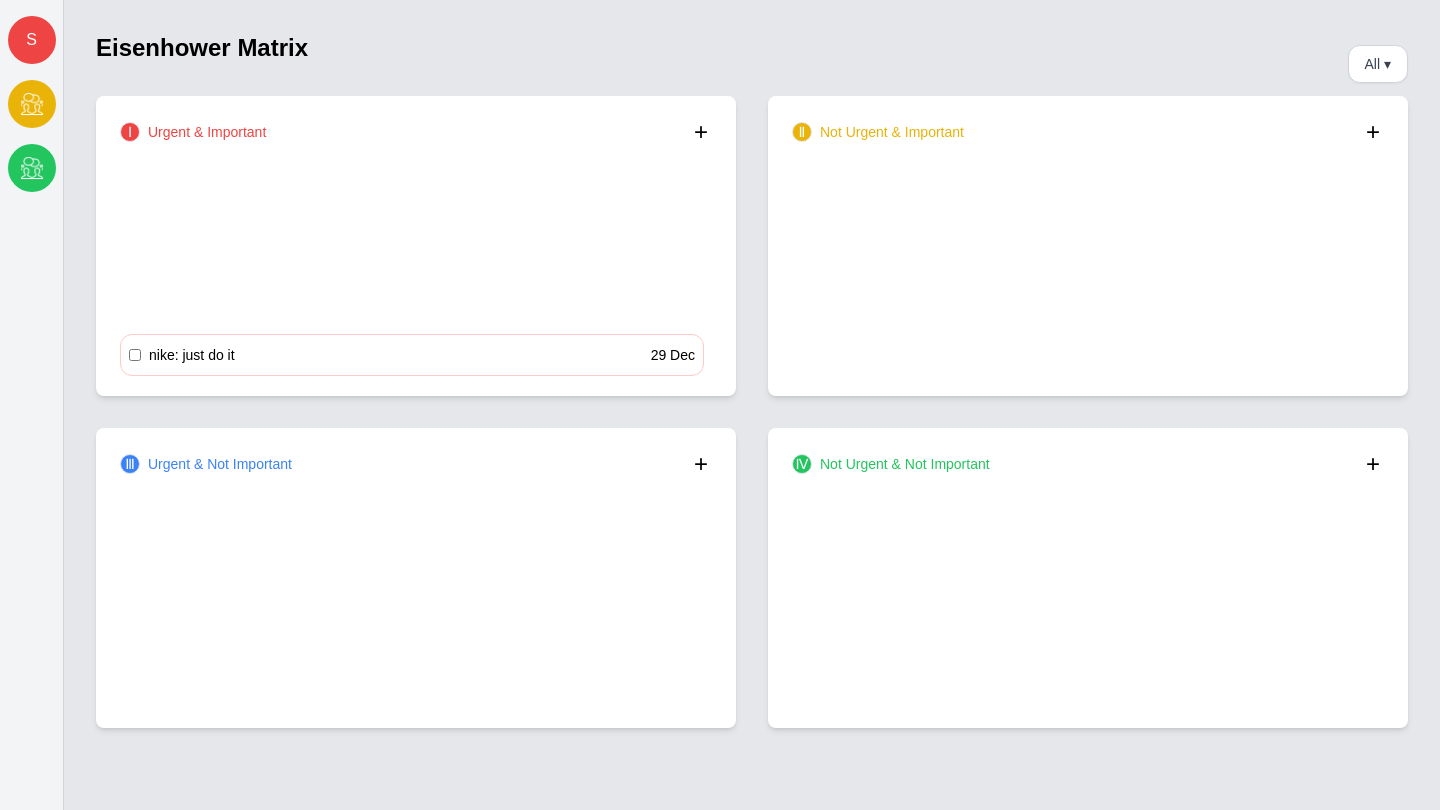
Test: NewHome Component › renders the home page and  opens modal  of task in Urgent & Important
The image size is (1440, 810).
Expected: the text "Eisenhower Matrix" is shown, [96,32,308,64]
Expected: the text "nike: just do it" is shown, [149,345,235,365]
Click the edit button
Click the button with test id "button-12": (209, 355) [121,335,703,375]
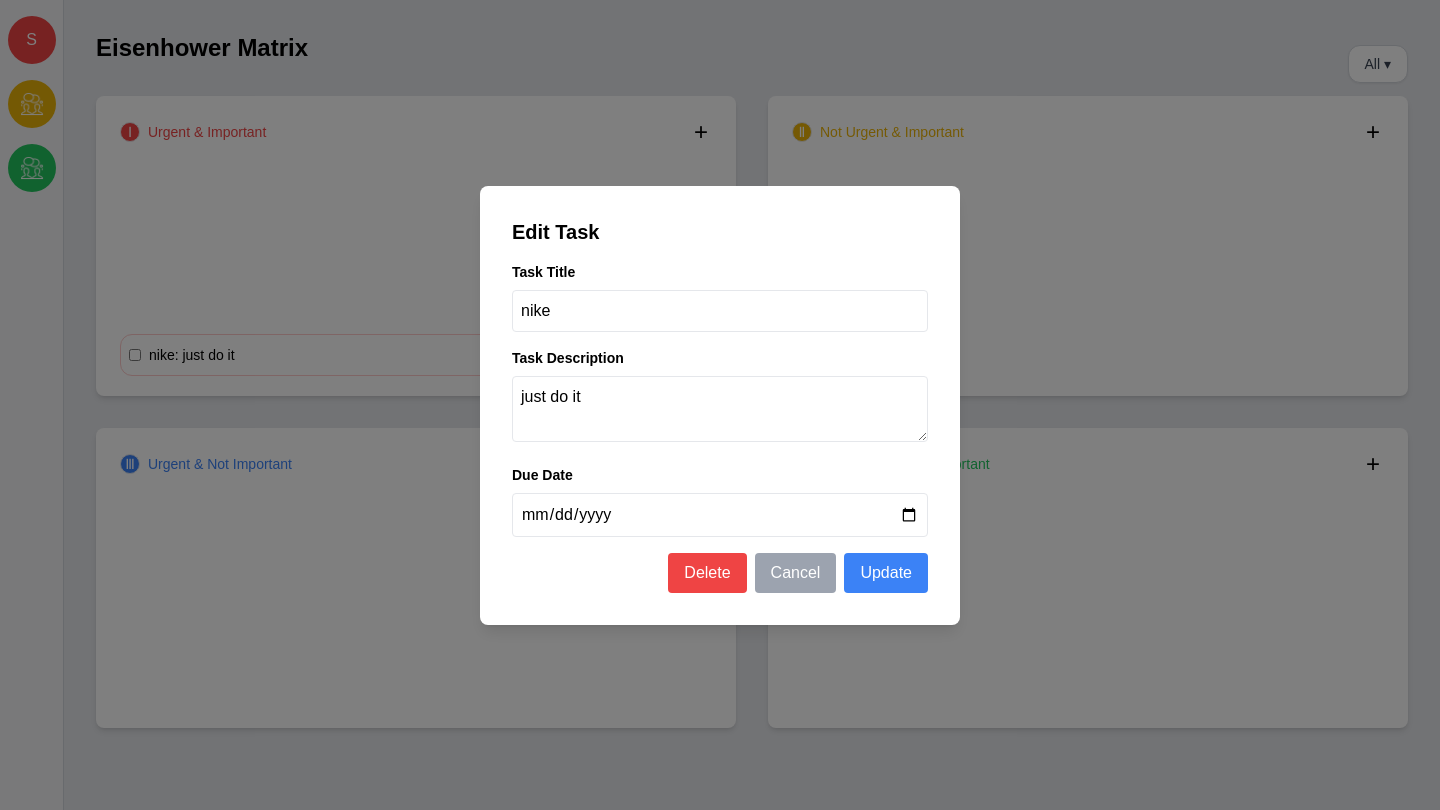
Expected: the heading "Edit Task" is shown, [512,220,599,242]
Click the delete button
Click the button with test id "delete-button": (707, 572) [668,552,747,592]
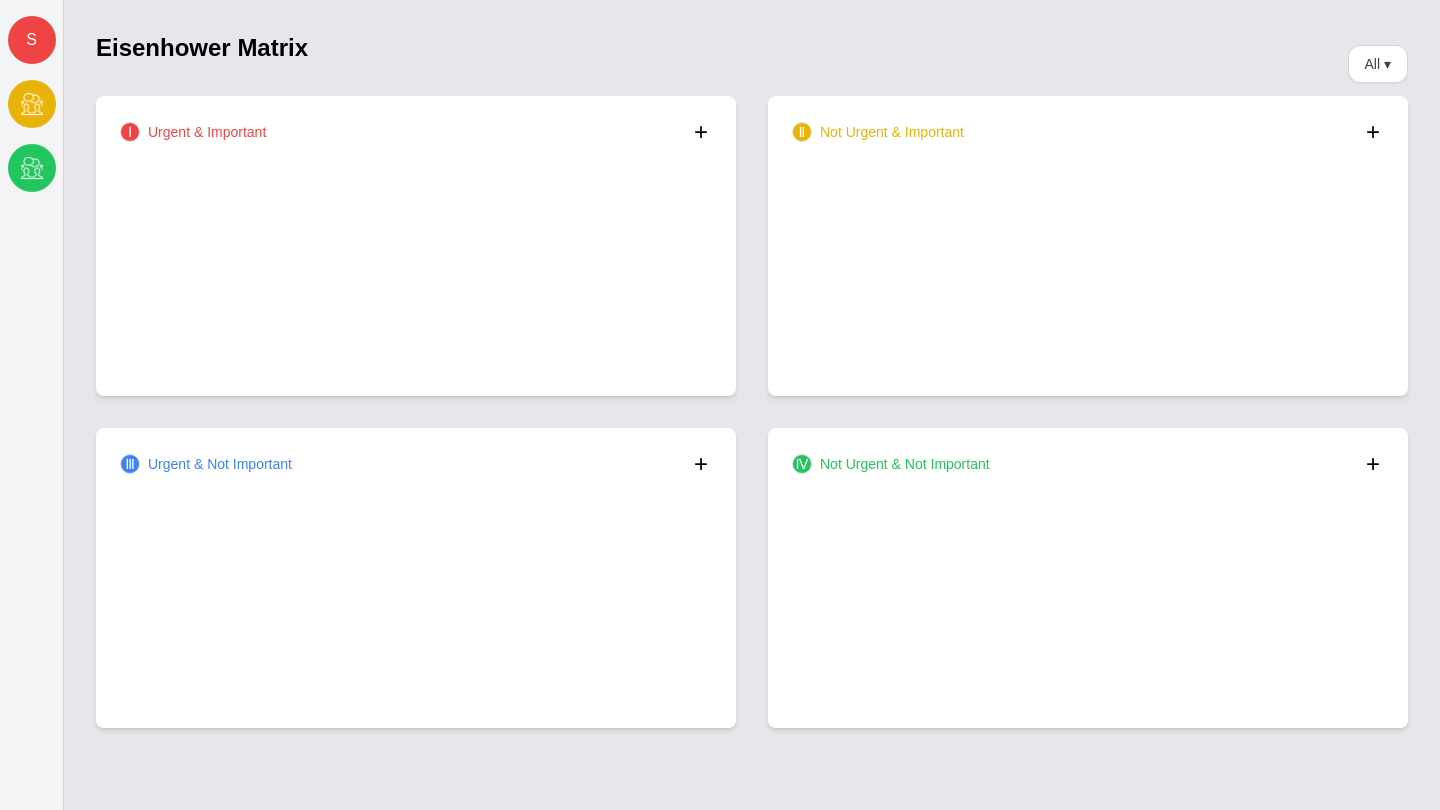
Expected: the button "nike: just do it" is gone
